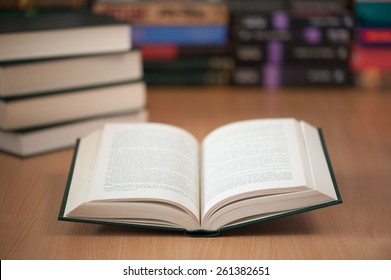Open Book: (69, 113, 340, 232)
